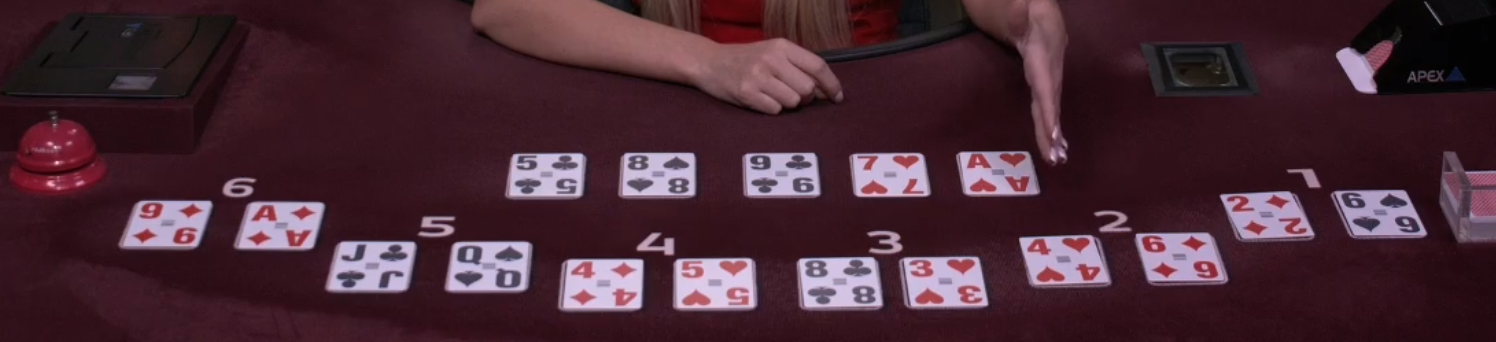2d: (1220, 189, 1321, 247)
3h: (893, 249, 998, 314)
4d: (553, 249, 646, 317)
4h: (1018, 236, 1119, 291)
5c: (505, 150, 588, 202)
5h: (667, 252, 759, 312)
6d: (1134, 230, 1243, 291)
6s: (1330, 187, 1440, 248)
7h: (845, 149, 933, 202)
8c: (791, 247, 888, 311)
8s: (618, 146, 704, 206)
9c: (738, 150, 824, 206)
9d: (123, 194, 214, 258)
asd: (239, 198, 325, 253)
ash: (956, 144, 1049, 202)
jc: (326, 240, 417, 302)
qs: (442, 241, 536, 297)
